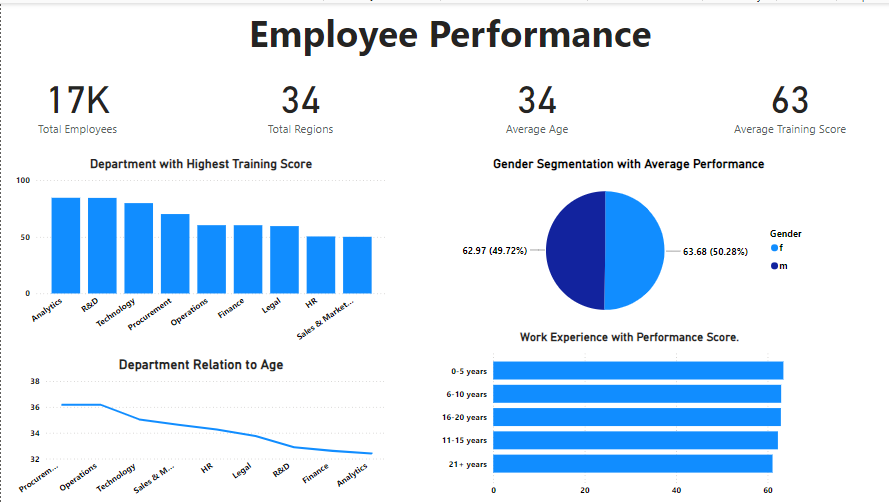

This screenshot's page, from the dashboard's own definition file:
{"tool":"powerbi","page":{"name":"Page 1","canvas":[1280,720],"ordinal":0},"visuals":[{"type":"textbox","box":[308.2,0,662.4,89.3],"z":0},{"type":"card","fields":{"Values":["PerformanceAnalysis.Total Employees"]},"box":[15.8,89.3,188.6,106.6],"z":1000},{"type":"card","fields":{"Values":["PerformanceAnalysis.Total Regions"]},"box":[348.5,89.3,165.6,106.6],"z":2000},{"type":"card","fields":{"Values":["PerformanceAnalysis.Average Age"]},"box":[691.2,89.3,161.3,106.6],"z":3000},{"type":"card","fields":{"Values":["PerformanceAnalysis.Average Training Score"]},"box":[1045.4,89.3,181.4,106.6],"z":4000},{"type":"columnChart","title":"Department with Highest Training Score","fields":{"Category":["PerformanceAnalysis.department"],"Y":["Avg(PerformanceAnalysis.avg_training_score)"]},"box":[15.8,219.7,544.7,278.9],"z":5000},{"type":"lineChart","title":"Department Relation to Age","fields":{"Category":["PerformanceAnalysis.department"],"Y":["Avg(PerformanceAnalysis.age)"]},"box":[15.8,507.9,544.7,211.8],"z":6000},{"type":"pieChart","title":"Gender Segmentation with Average Performance","fields":{"Category":["PerformanceAnalysis.gender"],"Y":["Avg(PerformanceAnalysis.avg_training_score)"]},"box":[627.6,219.7,552.6,251.3],"z":7000},{"type":"barChart","title":"Work Experience with Performance Score.","fields":{"Category":["PerformanceAnalysis.ServiceYearsBucket"],"Y":["Avg(PerformanceAnalysis.avg_training_score)"]},"box":[627.6,471.1,553.9,248.7],"z":8000}]}

Visuals, with their boxes in screenshot pixels (x1, y1, x2, y2), scaled from the page's 1280x720 canvas onto the 889x503 screenshot:
textbox: (214,0,674,62)
card - PerformanceAnalysis.Total Employees: (11,62,142,137)
card - PerformanceAnalysis.Total Regions: (242,62,357,137)
card - PerformanceAnalysis.Average Age: (480,62,592,137)
card - PerformanceAnalysis.Average Training Score: (726,62,852,137)
"Department with Highest Training Score" columnChart: (11,153,389,348)
"Department Relation to Age" lineChart: (11,355,389,502)
"Gender Segmentation with Average Performance" pieChart: (436,153,820,329)
"Work Experience with Performance Score." barChart: (436,329,821,502)
